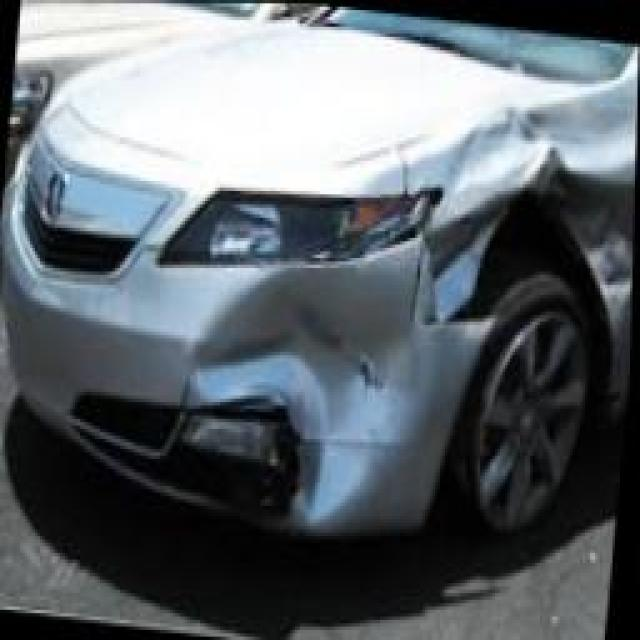Bumper: (0, 228, 508, 546)
Fender: (401, 71, 638, 408)
Light: (150, 198, 440, 267)
